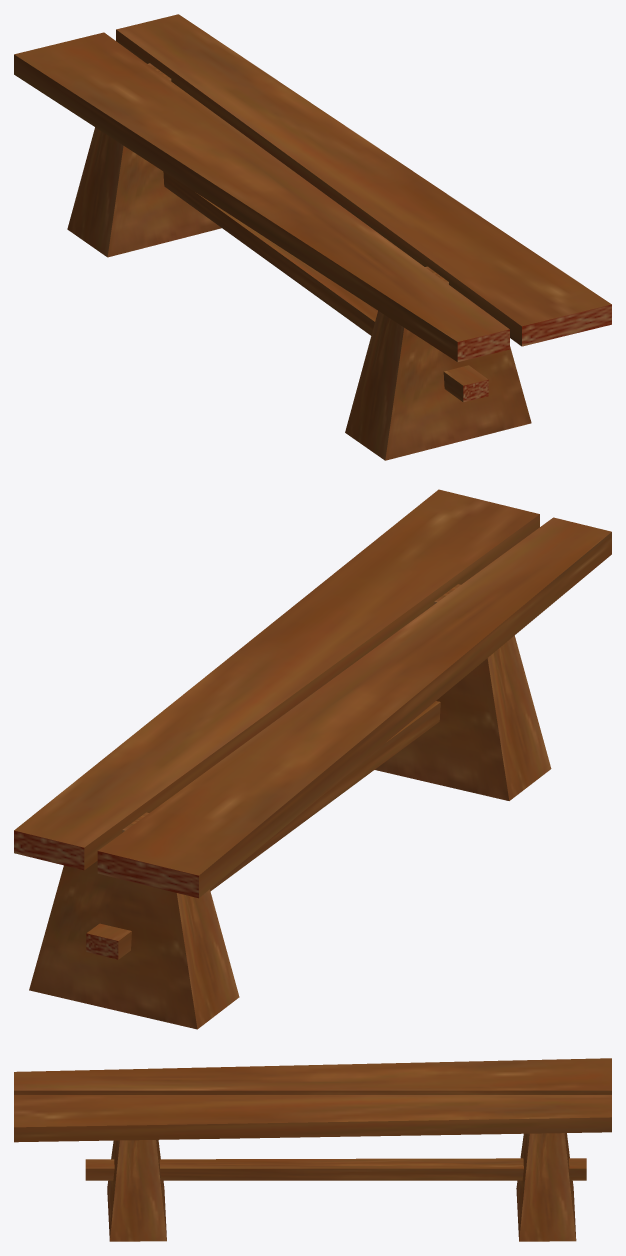
The model's file is bench3.FBX.
3 views of the same model, one above another, from view 1: azimuth 30°, elevation 25°; view 2: azimuth 150°, elevation 25°; view 3: azimuth 270°, elevation 25° (orthographic). The views are drawn at different scales.
Visible parts, largest first — view 1: Box005; view 2: Box005; view 3: Box005.
Part boxes in pixels (x1,y1,x2,y2): Box005: (14,14,611,460); Box005: (14,489,611,1029); Box005: (14,1058,611,1241).
Size of the model in its own units: 23.36 by 18.89 by 85.39.
